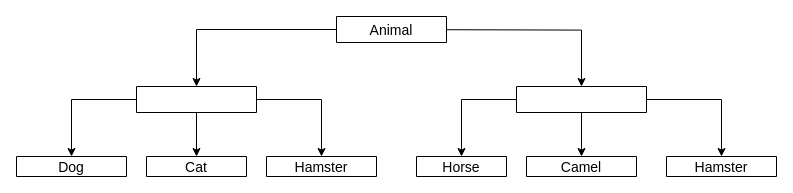
Image size: 793x193. Some labels were removed from this diagram. The shapes that lost their labels are listed below. From the top down, each one's centre as x and y in pixels, then its label:
At [196,99]: "HomeAnimal".
At [581,99]: "PackAnimal".
